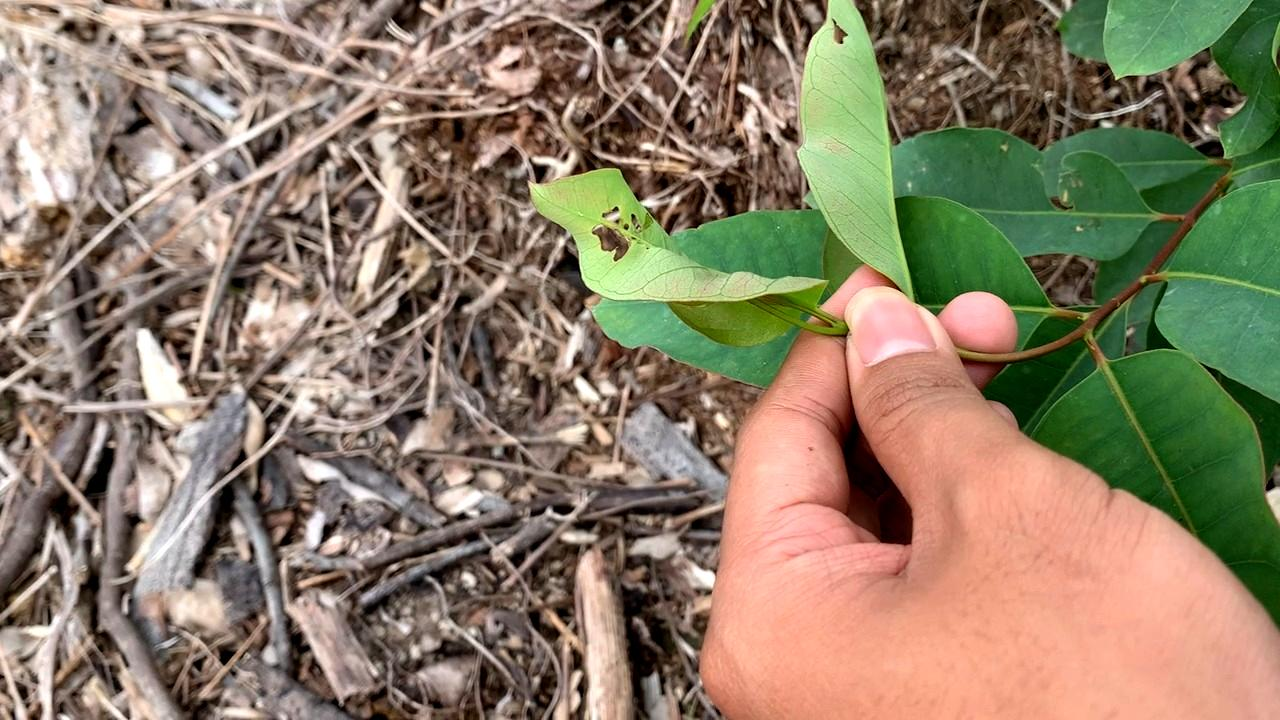Leaf Roller - Leaf: (531, 184, 817, 368)
